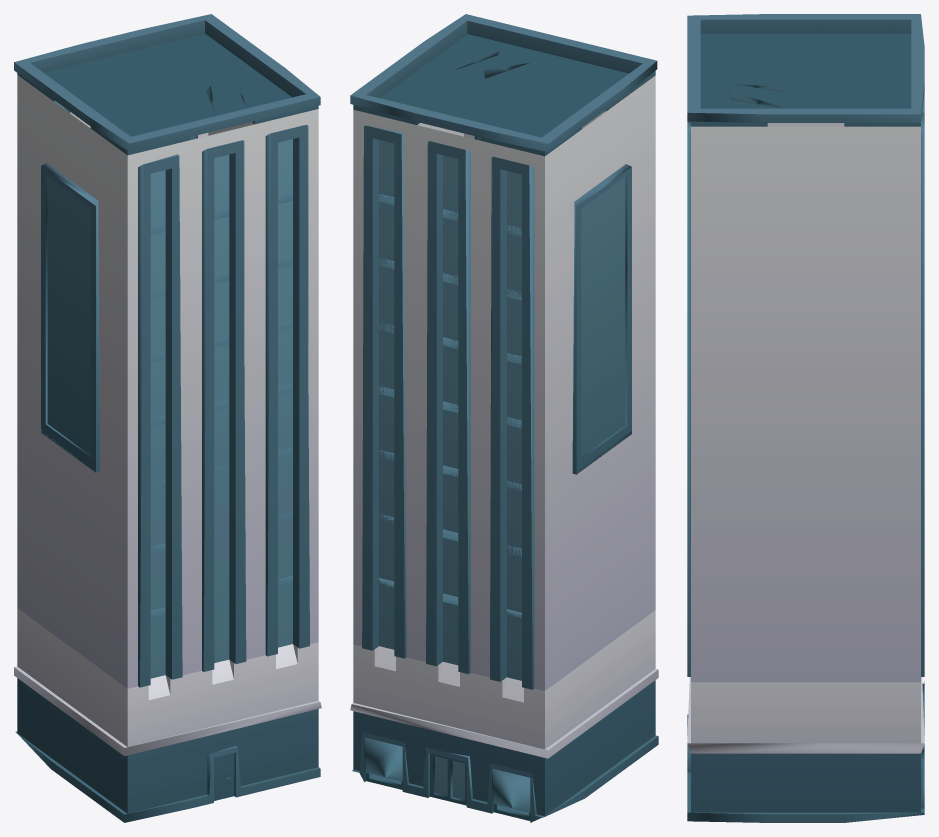
The model's file is tour-e.lod1.glb.
The picture shows the model from 3 angles, left to right: view 1: azimuth 30°, elevation 25°; view 2: azimuth 150°, elevation 25°; view 3: azimuth 270°, elevation 25°; orthographic projection. The views are drawn at different scales.
Parts seen in each view (by area): view 1: building-skyscraper-e; view 2: building-skyscraper-e; view 3: building-skyscraper-e.
Boxes of the visible parts, x1,y1,x2,y2 form: building-skyscraper-e: (14,14,321,822); building-skyscraper-e: (350,14,658,822); building-skyscraper-e: (687,14,924,822).
Bounding box in the file's own units: 74.75 × 245 × 74.45.
1 material, 1 textured.
